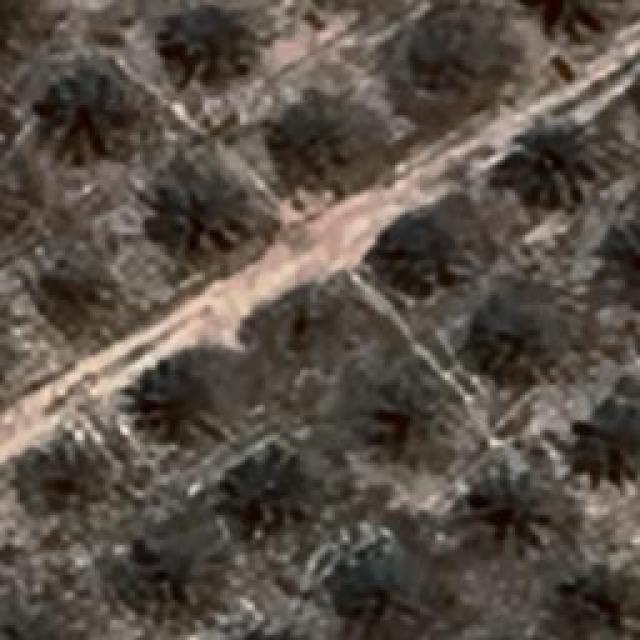PalmTree: (37, 76, 621, 259), (108, 21, 576, 76), (465, 452, 565, 552), (500, 118, 610, 208), (399, 18, 504, 108), (125, 515, 215, 615), (290, 96, 380, 194), (332, 542, 428, 632), (35, 70, 130, 158), (162, 9, 260, 92), (376, 208, 472, 292), (478, 295, 566, 385), (36, 244, 120, 338), (162, 166, 250, 254), (368, 374, 442, 464), (235, 450, 313, 532), (557, 562, 640, 639), (144, 362, 222, 442), (574, 392, 638, 486), (0, 603, 80, 640), (0, 295, 25, 406), (0, 137, 26, 241), (205, 616, 312, 640), (616, 210, 640, 303), (0, 0, 39, 54), (0, 137, 18, 240), (206, 623, 312, 640)
